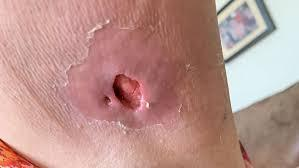Spider: (64, 20, 185, 137)
